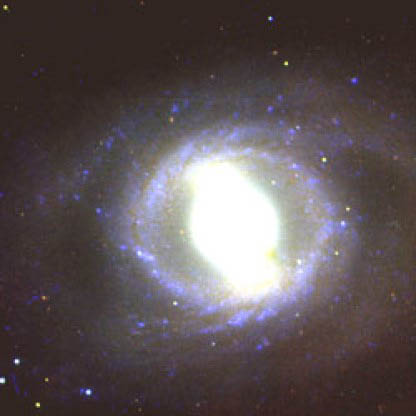Messier 95: (55, 88, 405, 384)
